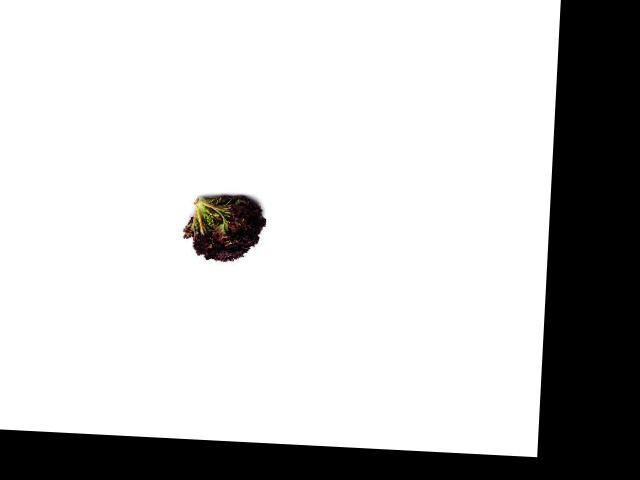lettuce: (186, 188, 271, 266)
